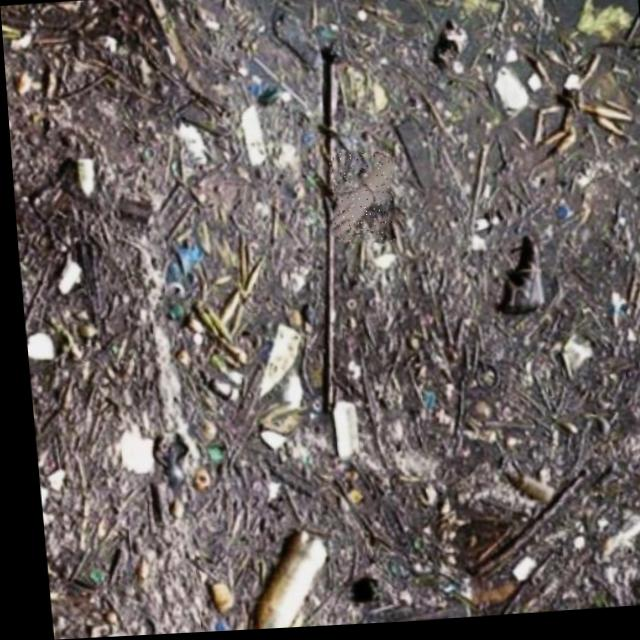Person in Rubble: (323, 153, 392, 248)
